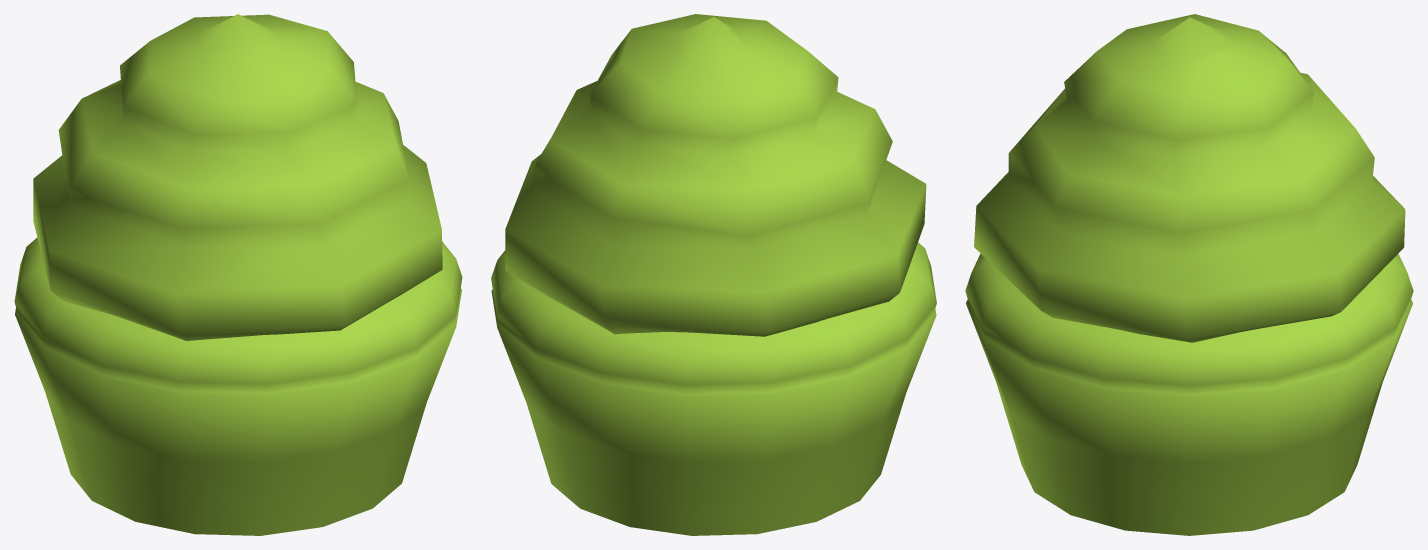
File: Arbusto_Maceta.fbx
3 views of the same model, side by side, from view 1: azimuth 30°, elevation 25°; view 2: azimuth 150°, elevation 25°; view 3: azimuth 270°, elevation 25° (orthographic).
Parts seen in each view (by area): view 1: Arbusto con maceta; view 2: Arbusto con maceta; view 3: Arbusto con maceta.
Part boxes in pixels (x1,y1,x2,y2): Arbusto con maceta: (14, 14, 462, 535); Arbusto con maceta: (491, 14, 936, 535); Arbusto con maceta: (965, 14, 1413, 535).
Size of the model in its own units: 129 by 142 by 129.
